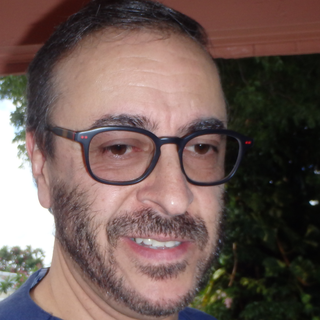eye: (96, 138, 148, 163), (179, 140, 225, 162)
